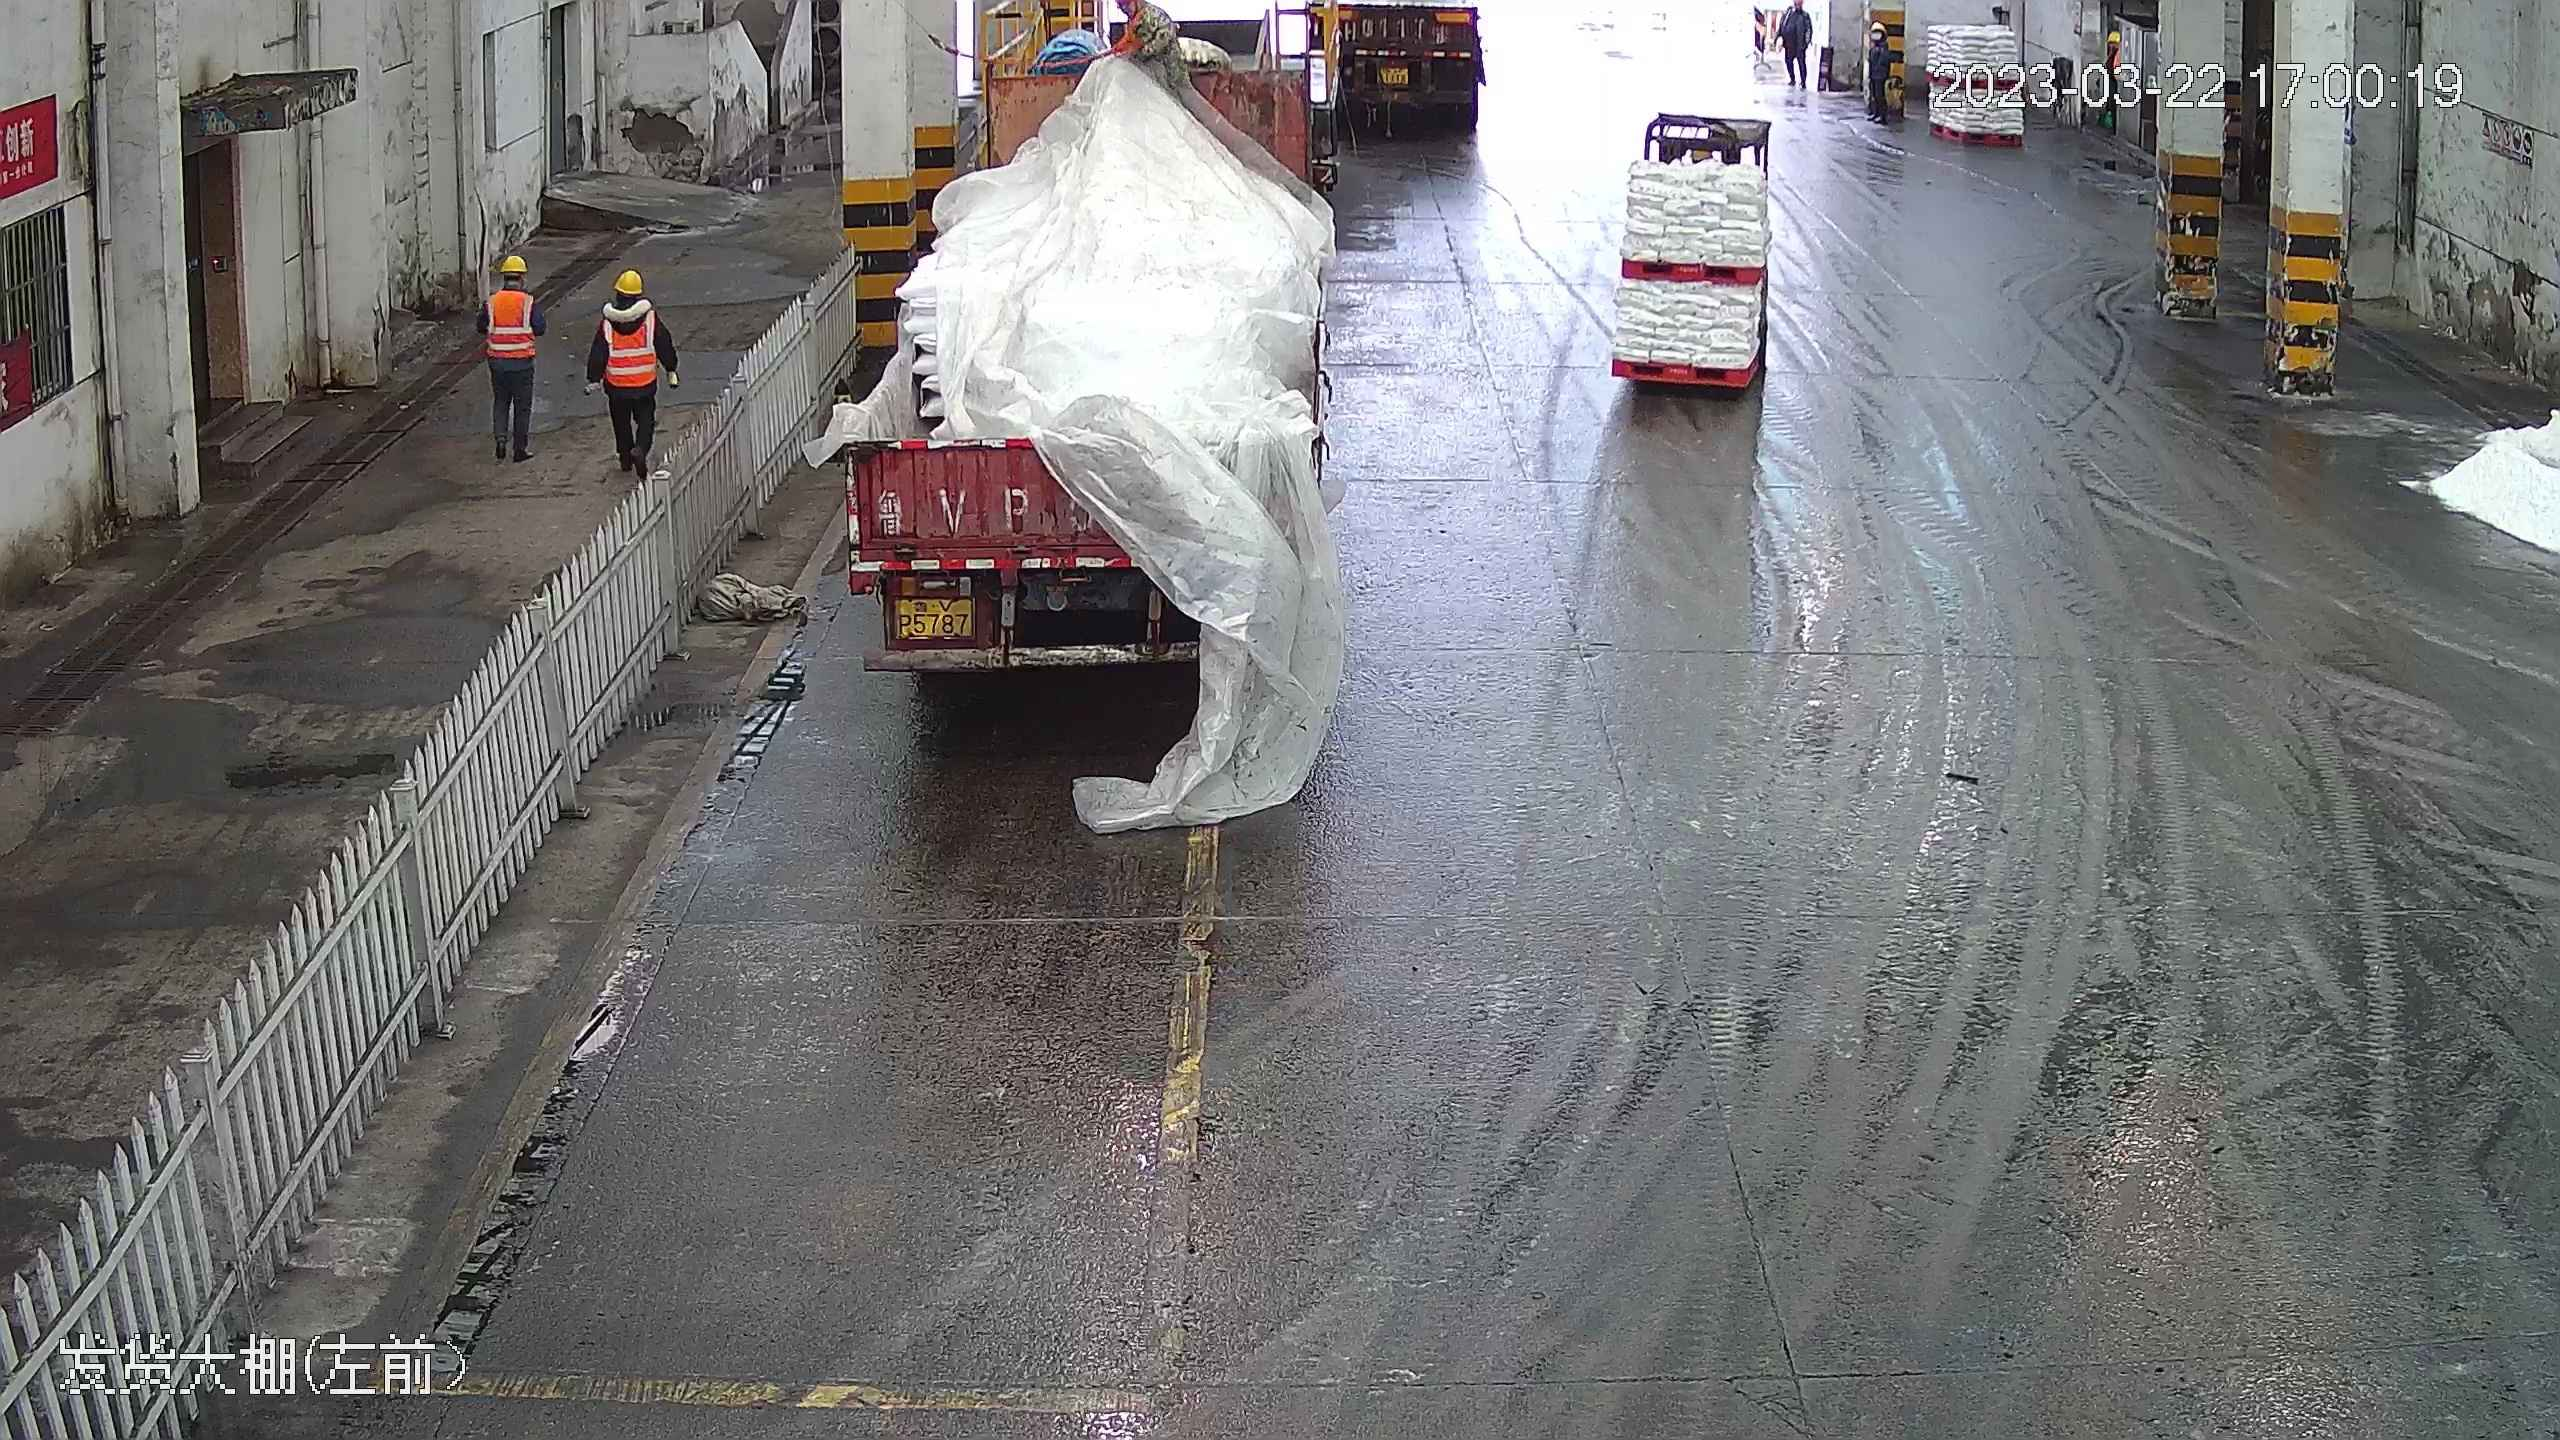belt: (1112, 11, 1146, 56)
head: (598, 268, 661, 340), (484, 252, 539, 321)
helmet: (609, 266, 646, 296), (498, 255, 530, 275)
people: (589, 264, 676, 486), (475, 243, 549, 474), (1783, 1, 1814, 93)
truck: (843, 3, 1339, 733)
